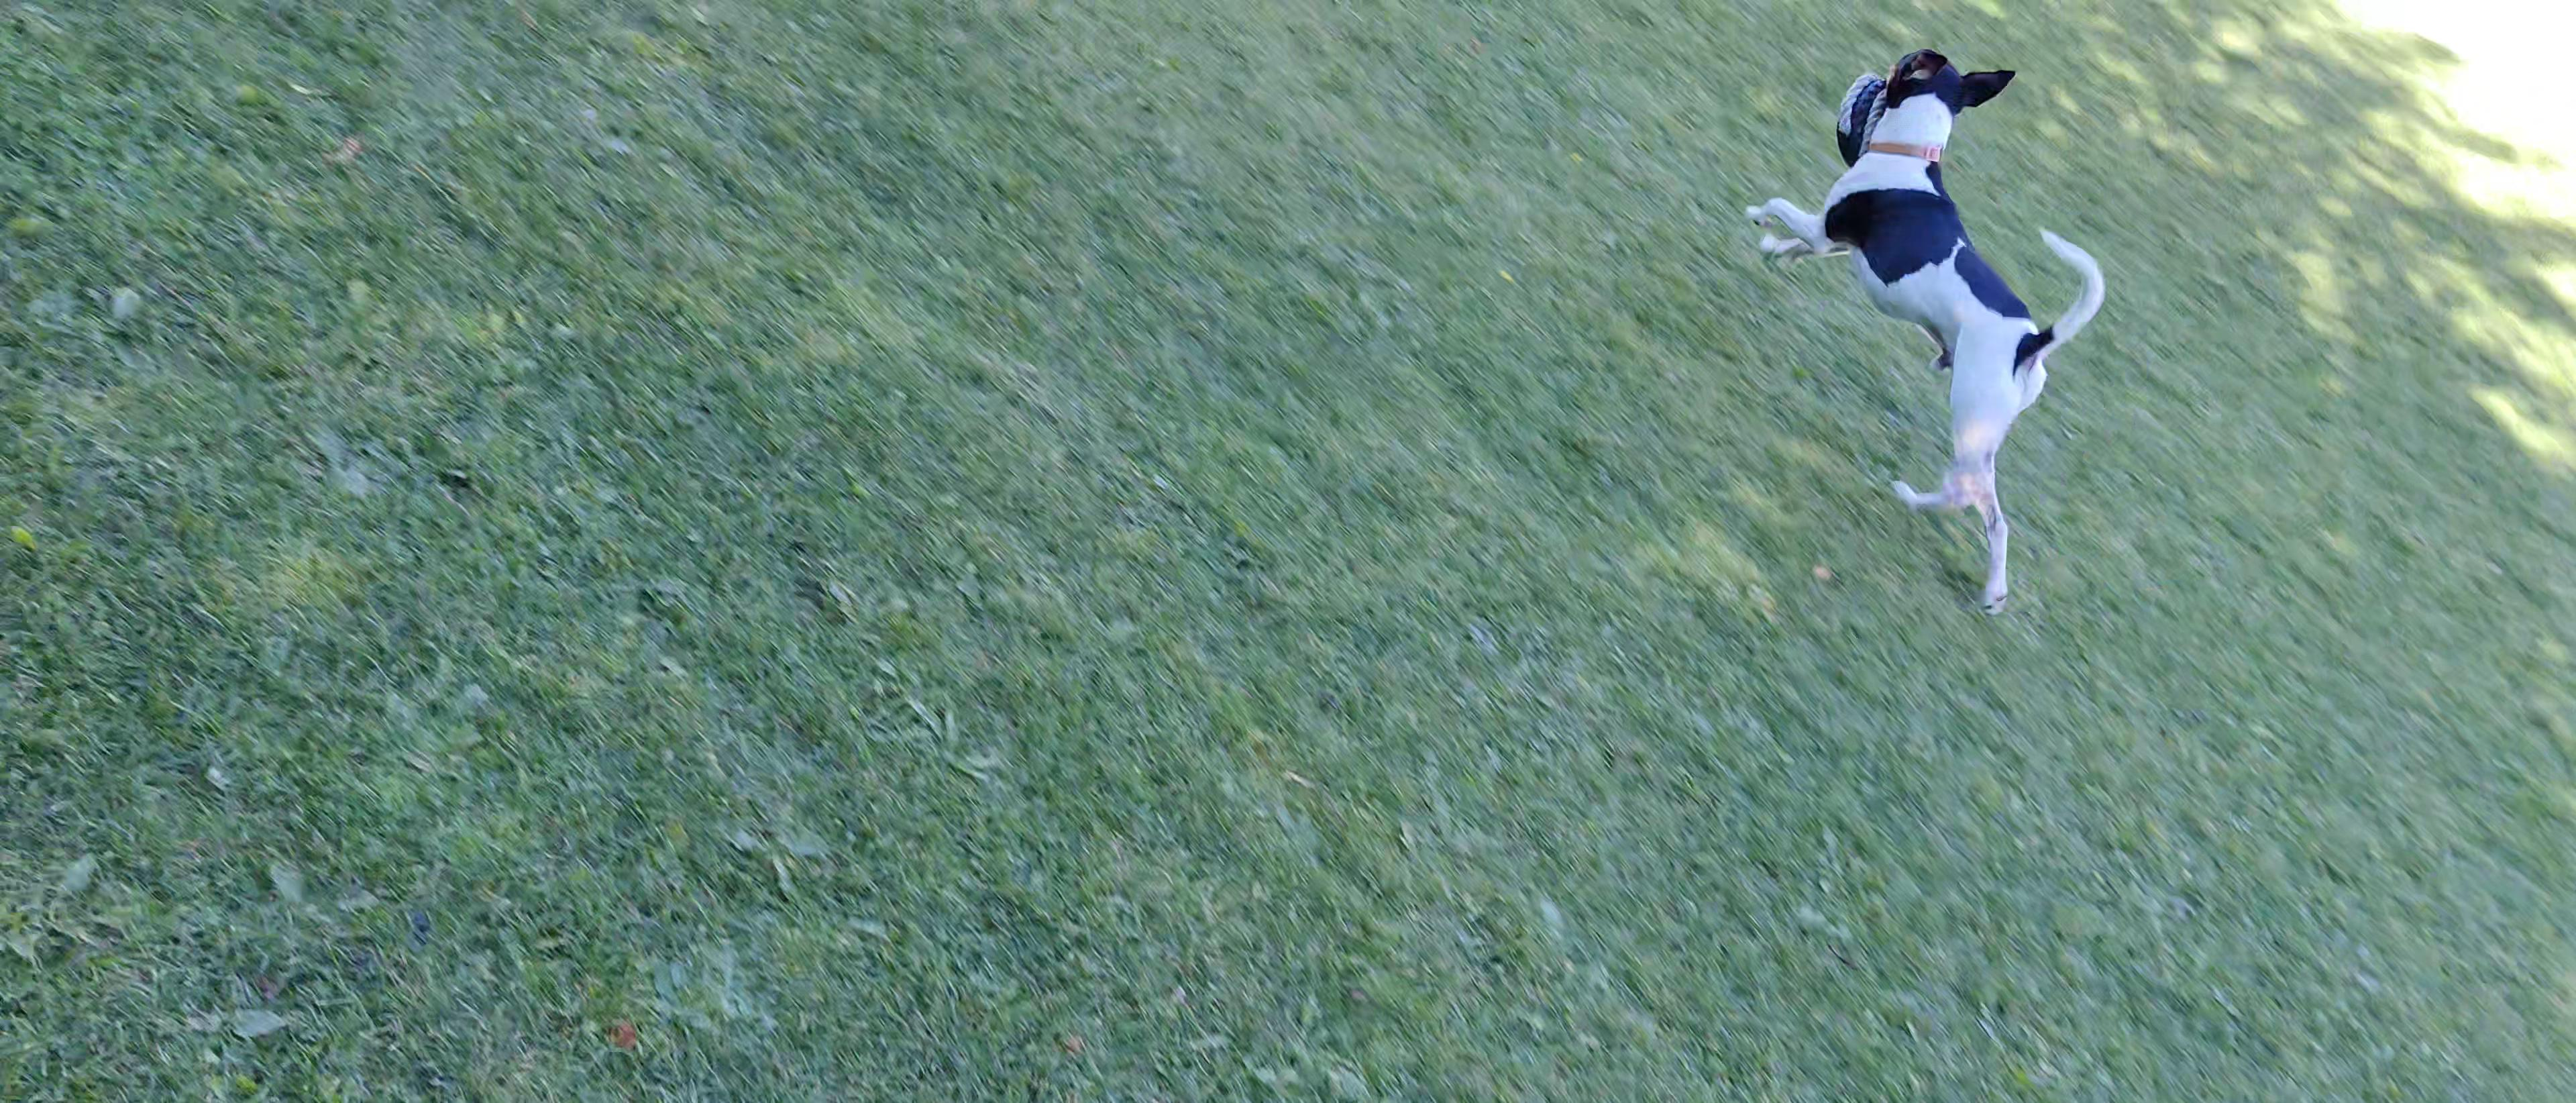Dog: (1679, 25, 2154, 628)
